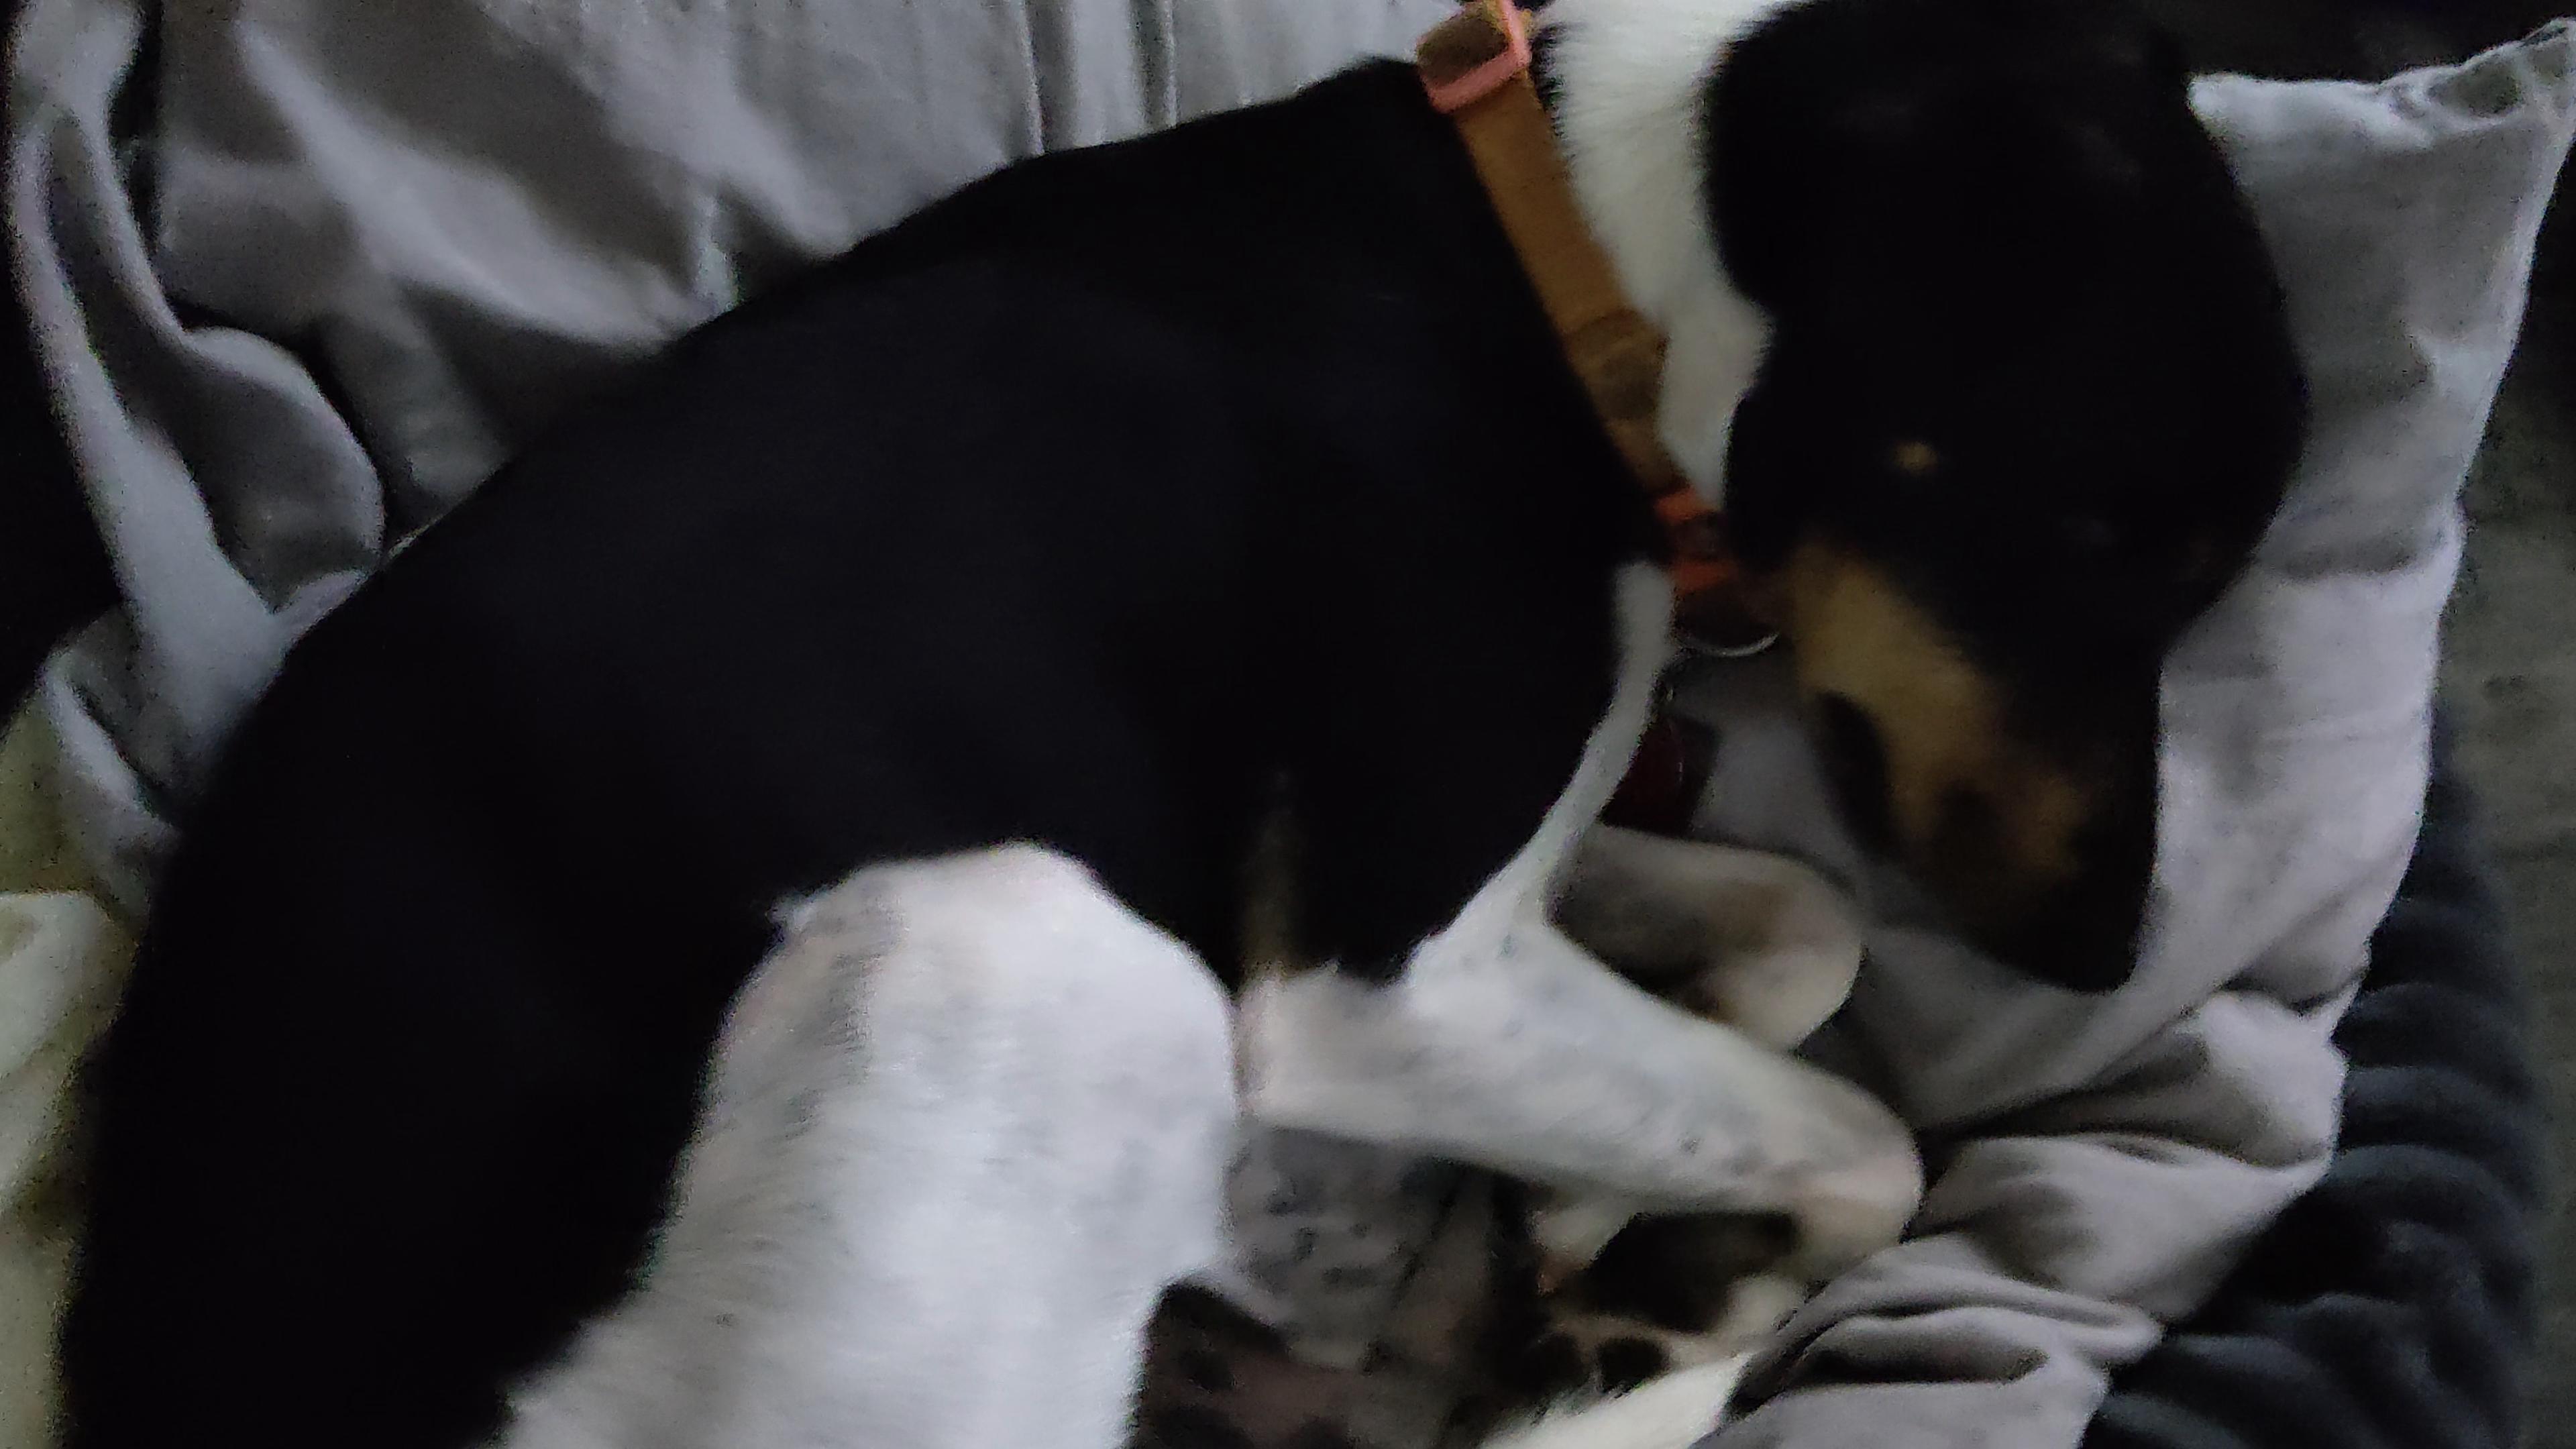Dog: (18, 0, 2327, 1449)
